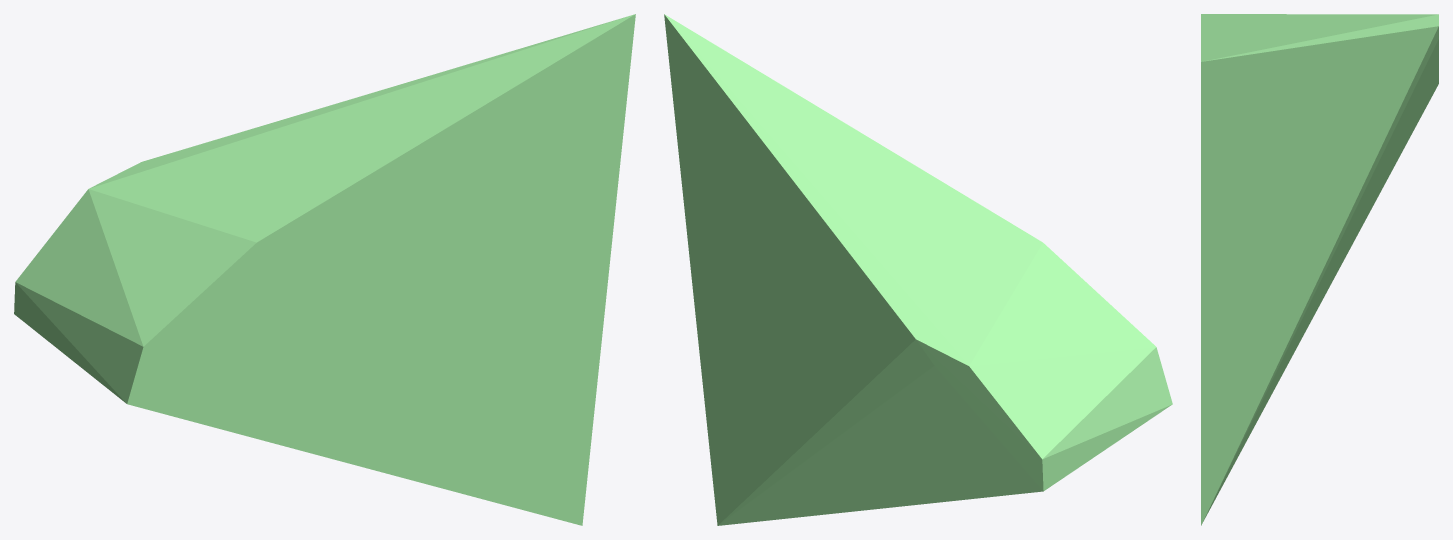
Rendered from UMIRobot_UMIRobot_link_2_convex_coll_29.dae.
3 views of the same model, side by side, from view 1: azimuth 30°, elevation 25°; view 2: azimuth 150°, elevation 25°; view 3: azimuth 270°, elevation 25° (orthographic).
Visible parts, largest first — view 1: node; view 2: node; view 3: node.
Part boxes in pixels (x1,y1,x2,y2): node: (14,14,635,525); node: (664,14,1172,525); node: (1201,14,1438,525).
Size of the model in its own units: 0.0339 by 0.0318 by 0.014.
